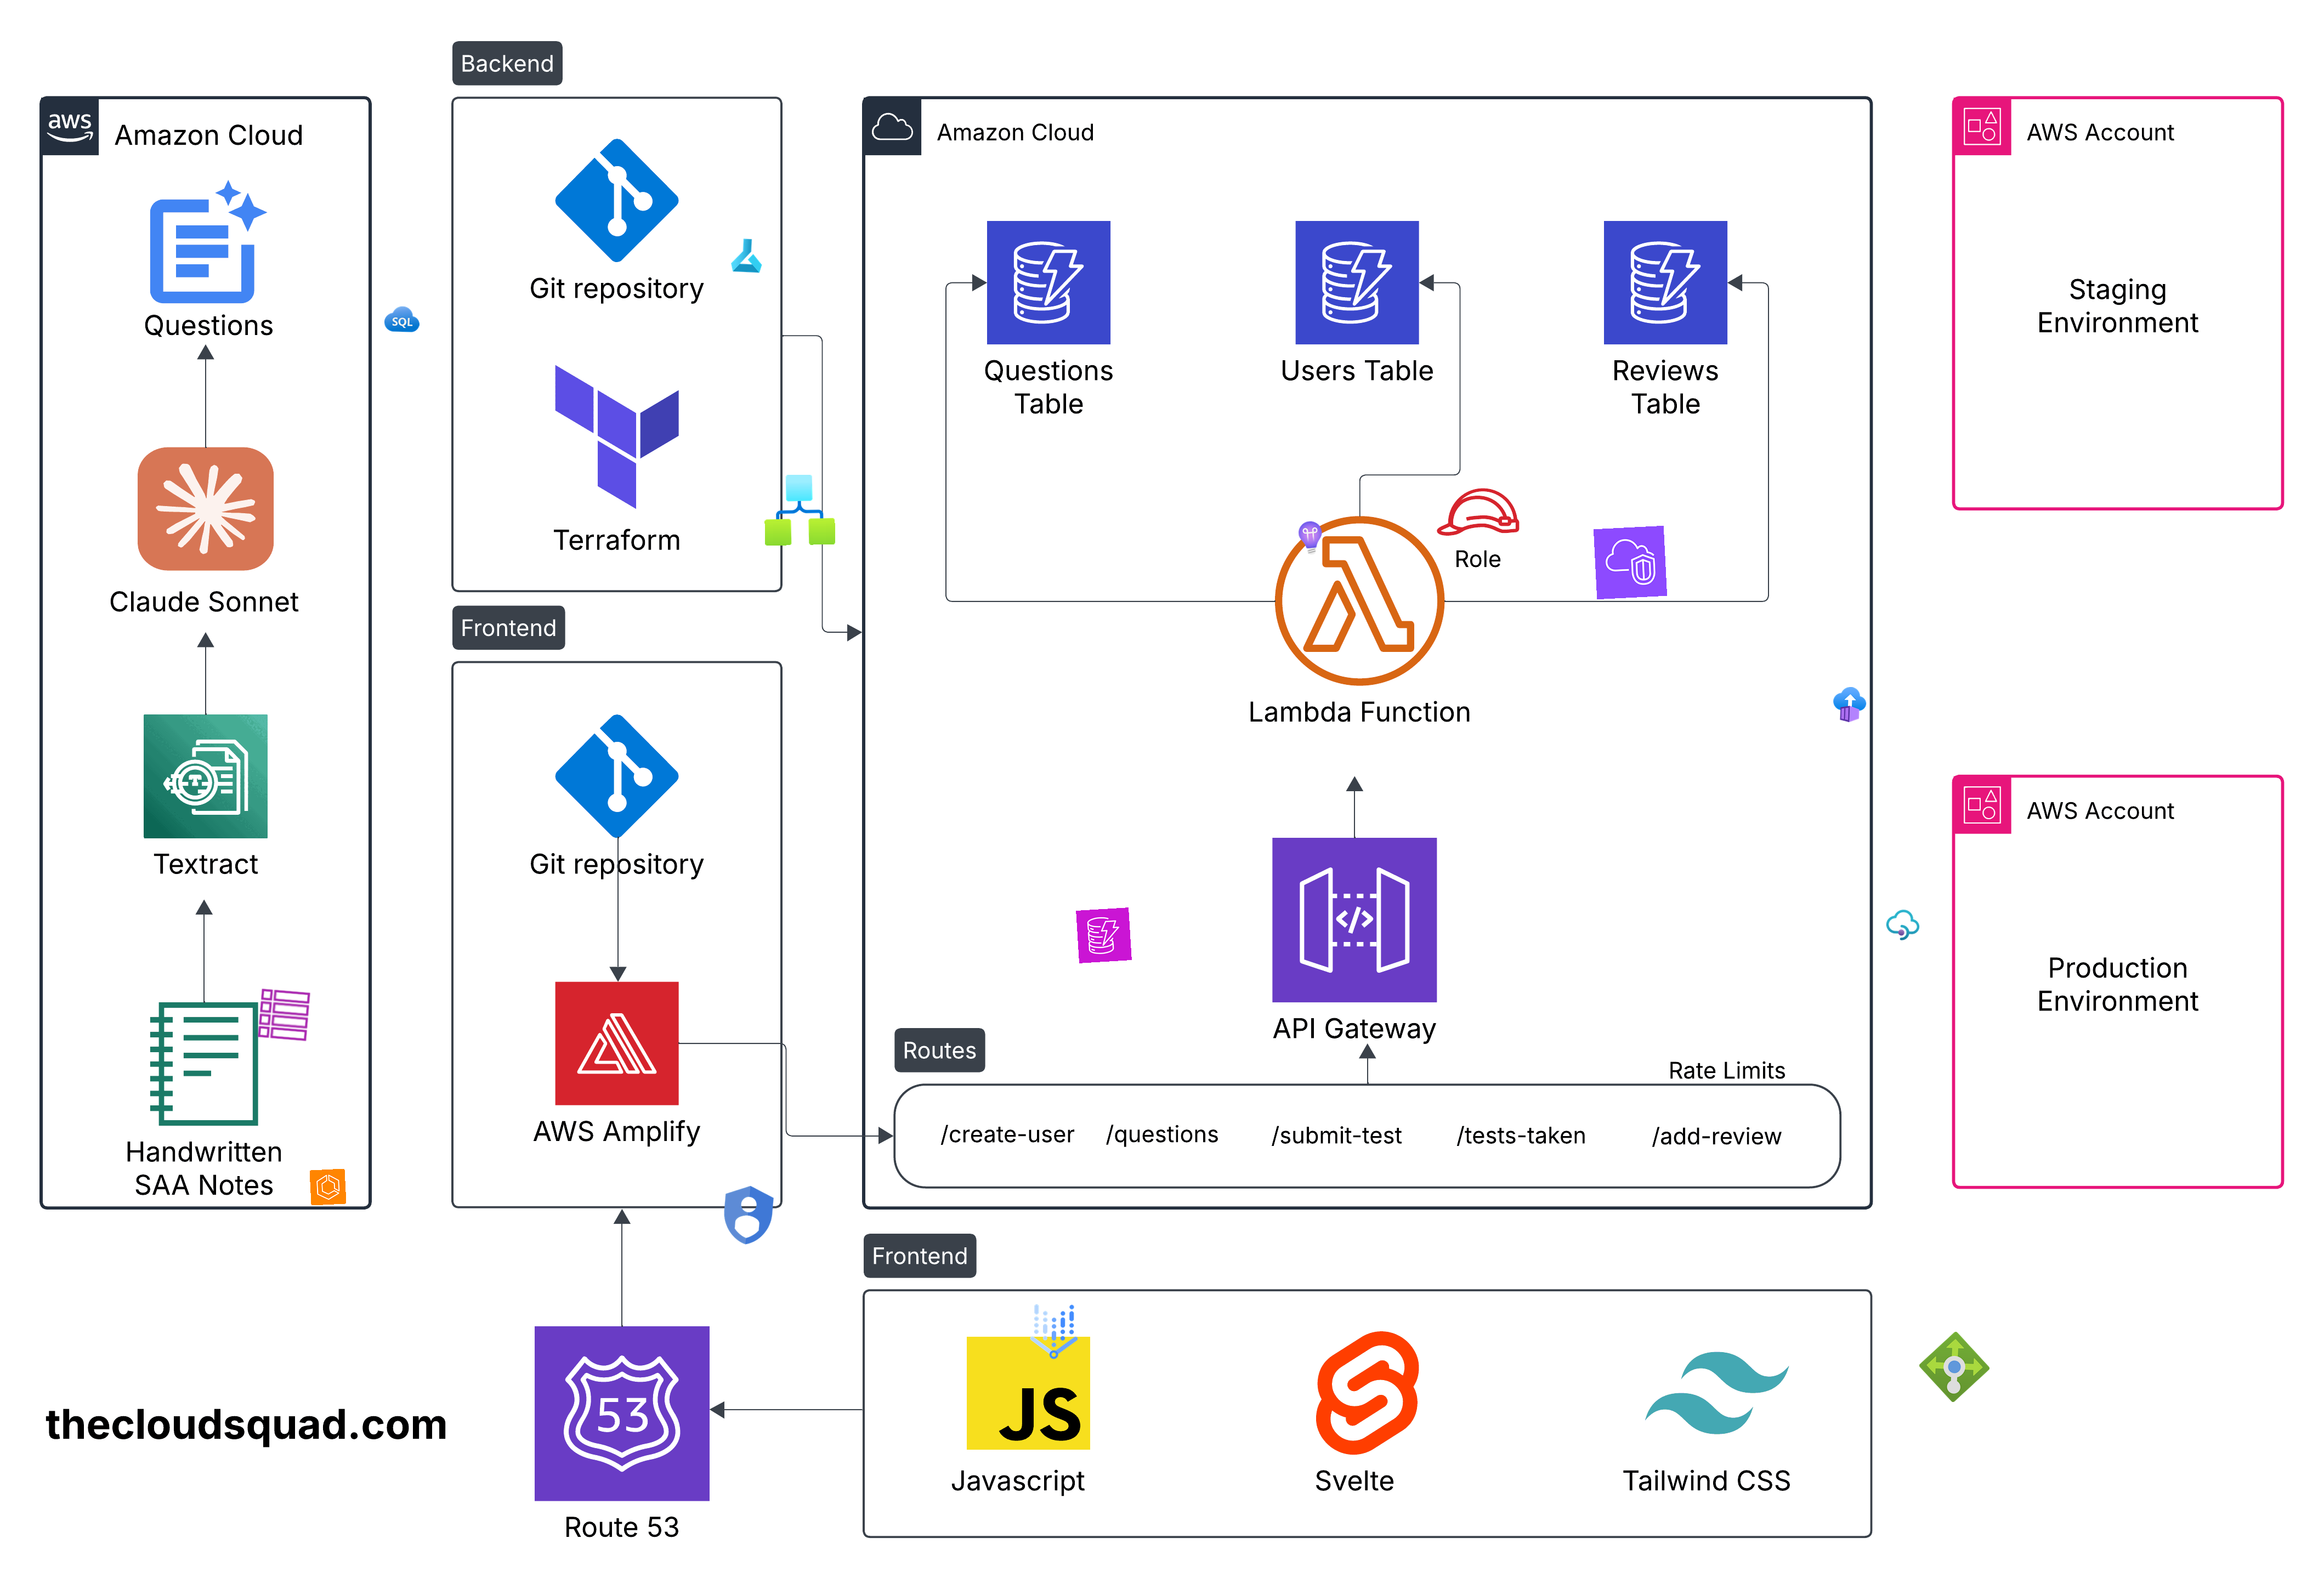aws_amazon_dynamodb: (1076, 907, 1132, 963)
aws_amazon_elastic_container_service: (310, 1168, 347, 1206)
aws_amazon_virtual_private_cloud: (1593, 525, 1667, 601)
aws_dynamodb_table: (255, 986, 313, 1043)
azure_api_management_services: (1884, 907, 1921, 944)
azure_application_insights: (1292, 520, 1329, 557)
azure_container_instances: (1831, 685, 1868, 724)
azure_load_balancers: (1917, 1330, 1991, 1404)
azure_logic_apps: (764, 474, 836, 546)
azure_machine_learning: (729, 236, 766, 275)
azure_sql: (384, 301, 421, 338)
gcp_identity_and_access_management: (710, 1176, 787, 1254)
gcp_vertex_ai: (1018, 1296, 1090, 1367)
